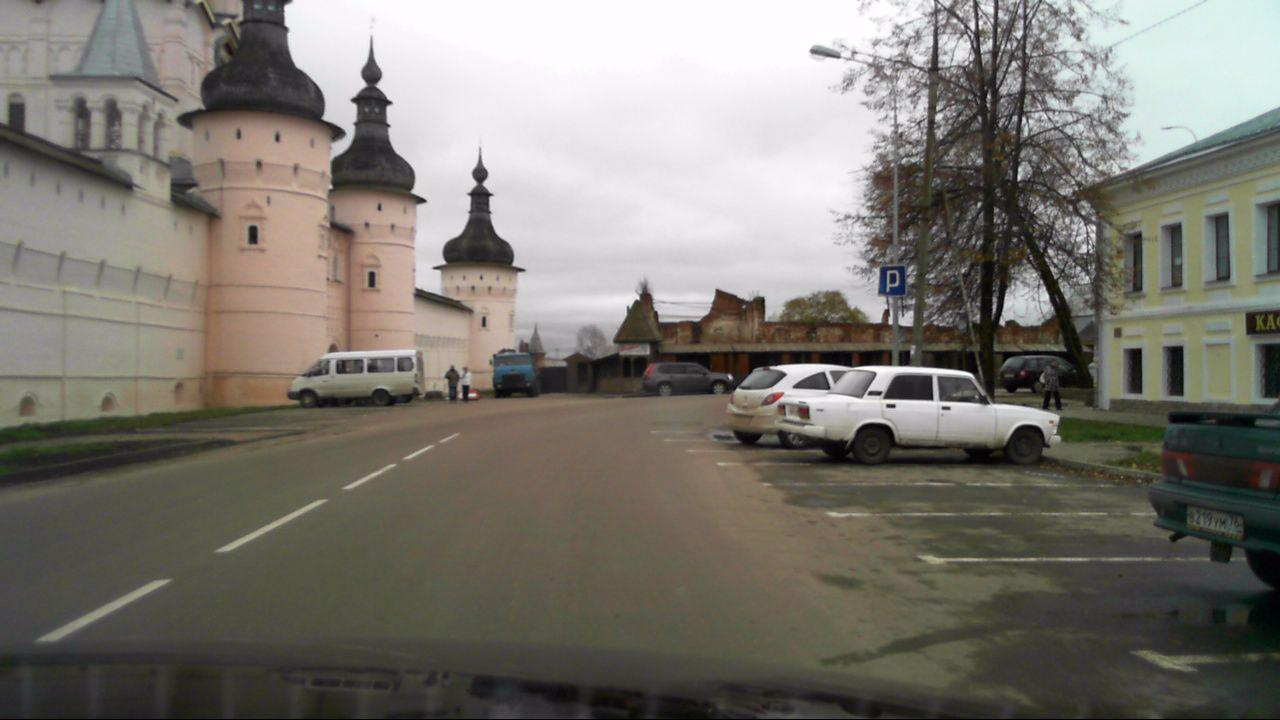6_4: (878, 265, 903, 295)
